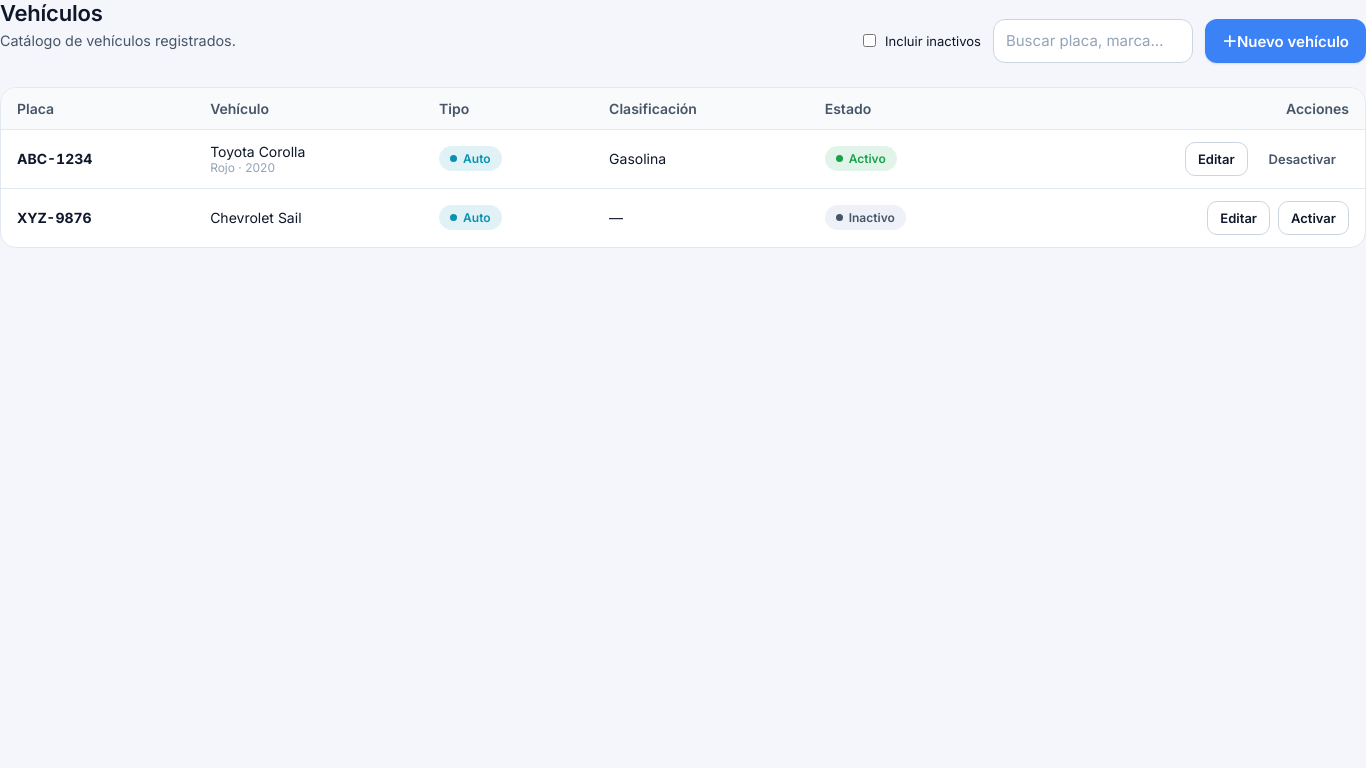
Test: VehiculosPage › valida placa inválida al crear
Expected: the text "ABC-1234" is shown, x1=17 y1=150 x2=92 y2=167
Click the button "＋Nuevo vehículo". click: (1285, 41)
box: x1=1205 y1=19 x2=1365 y2=63
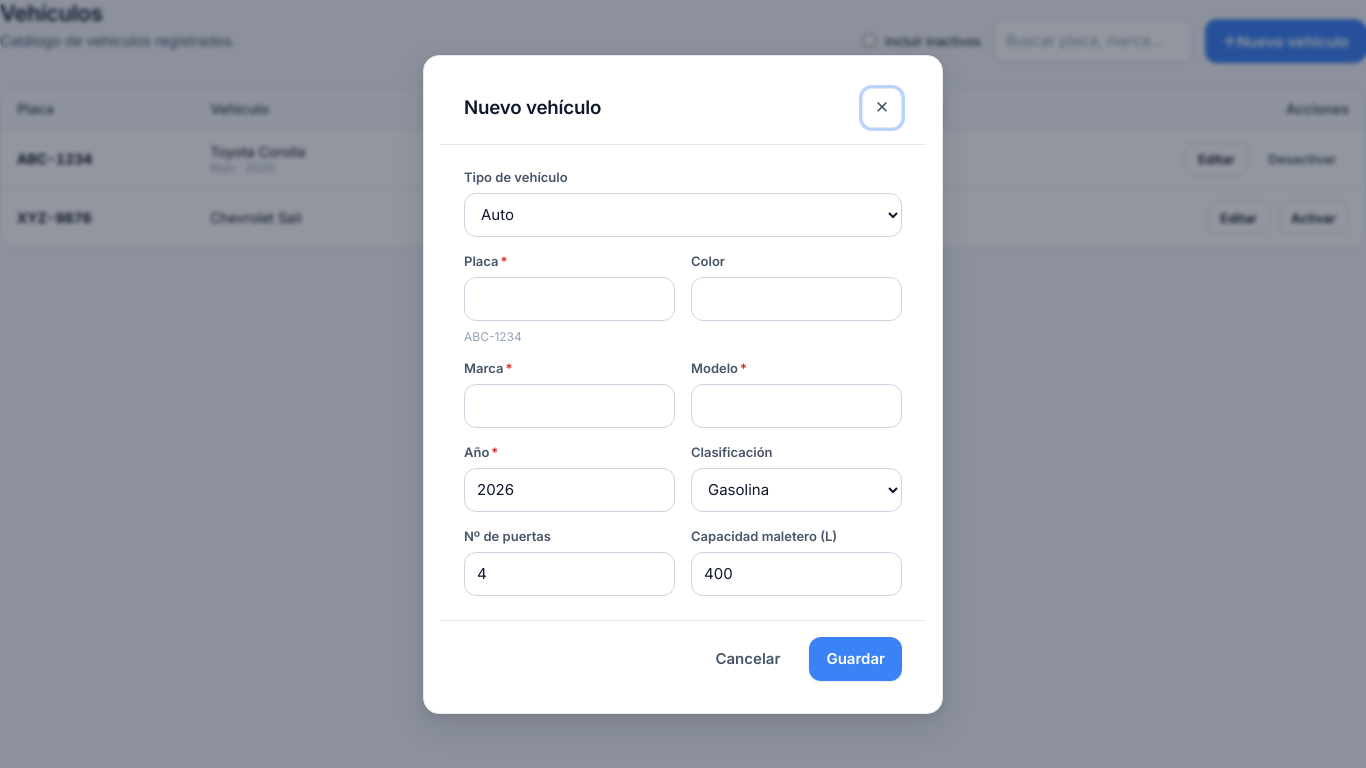
Type "Kia" into the field labelled "Marca*". click: (570, 406)
box: x1=464 y1=384 x2=675 y2=428
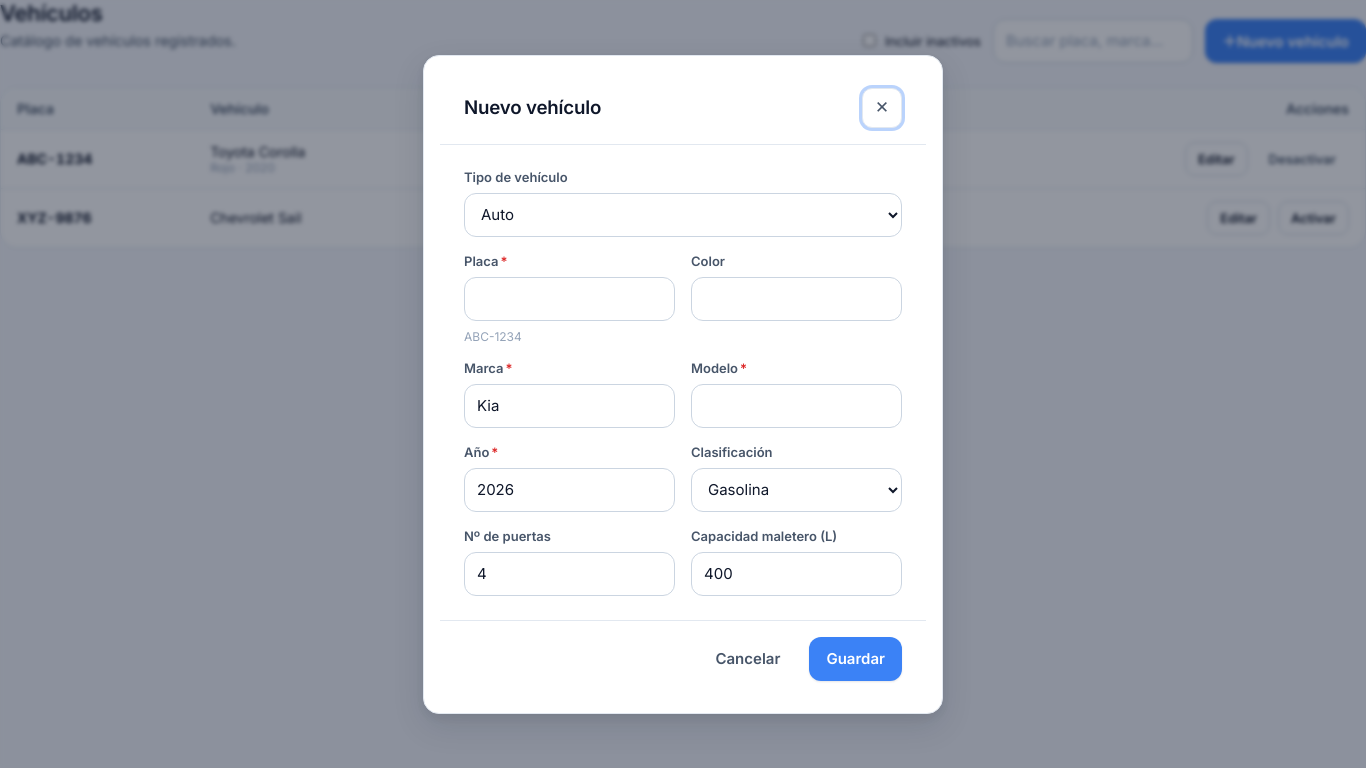
Type "Rio" into the field labelled "Modelo*". click: (796, 406)
box: x1=691 y1=384 x2=902 y2=428
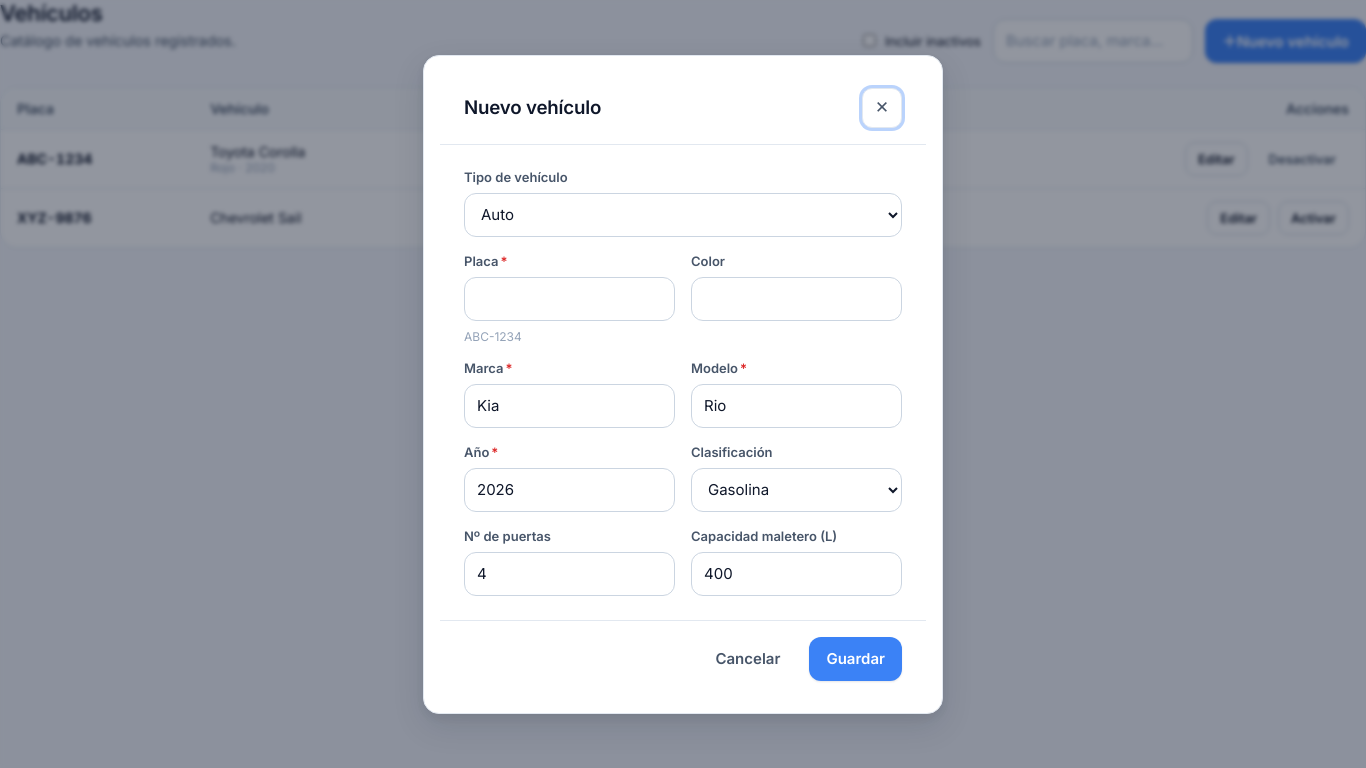
Click the button "Guardar". click: (856, 658)
box: x1=809 y1=636 x2=902 y2=680
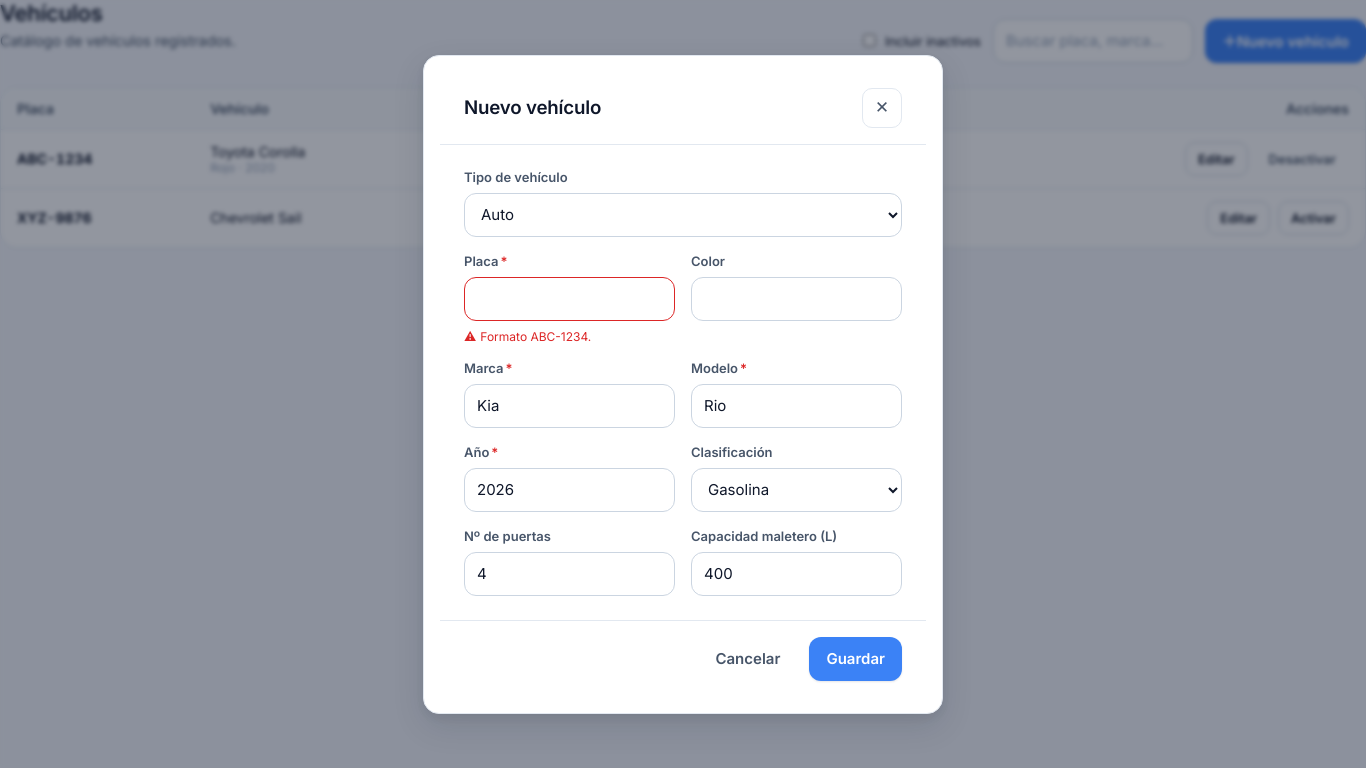
Result: the text "Formato ABC-1234." is shown at x1=480 y1=328 x2=591 y2=344
